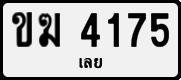letters: (38, 11, 61, 48), (11, 10, 33, 48), (79, 11, 101, 48), (149, 11, 171, 48), (126, 11, 147, 48), (106, 11, 121, 48)
province: (77, 56, 104, 70)
